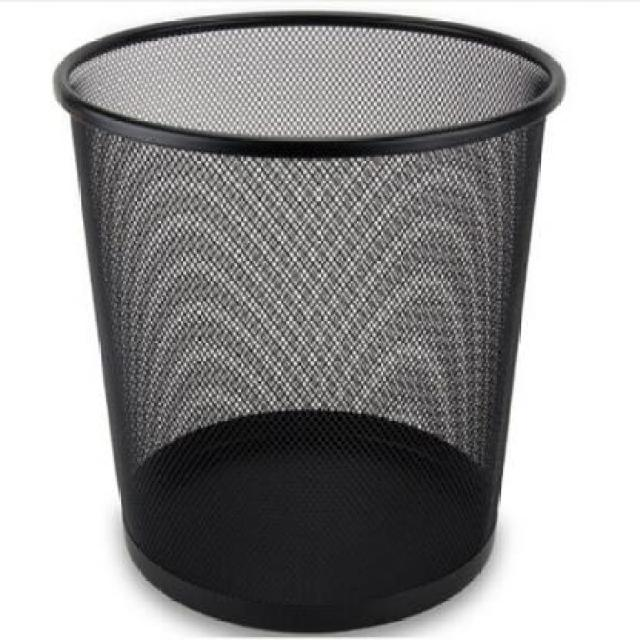dustbin: (46, 6, 572, 639)
